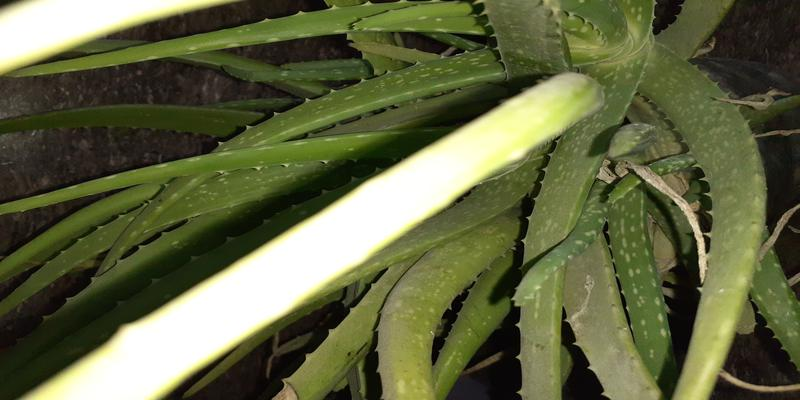Aloevera: (144, 39, 775, 355)
